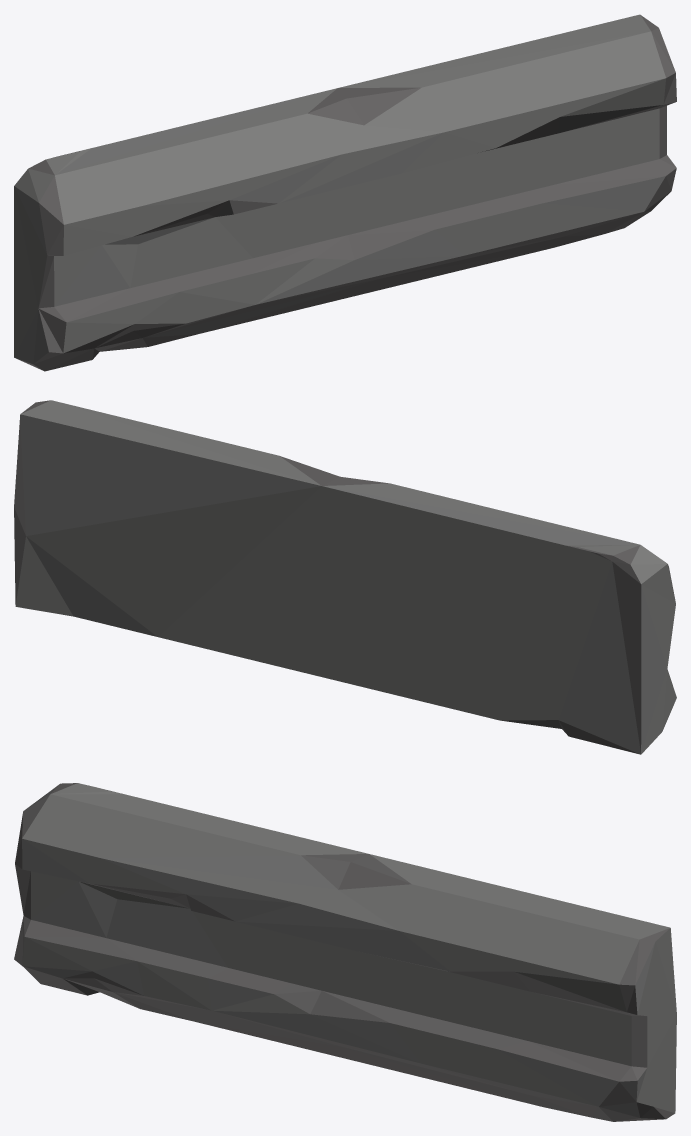
File: SM_Env_Wall_Trim_Top_01.FBX
The picture shows the model from 3 angles, top to bottom: view 1: azimuth 30°, elevation 25°; view 2: azimuth 150°, elevation 25°; view 3: azimuth 330°, elevation 25°; orthographic projection.
Parts seen in each view (by area): view 1: SM_Env_Wall_Trim_Top_01; view 2: SM_Env_Wall_Trim_Top_01; view 3: SM_Env_Wall_Trim_Top_01.
Part boxes in pixels (x1,y1,x2,y2): SM_Env_Wall_Trim_Top_01: (14,14,676,371); SM_Env_Wall_Trim_Top_01: (14,400,676,754); SM_Env_Wall_Trim_Top_01: (14,783,676,1121).
Size of what is drawn, in the model's own units: 262 by 31.56 by 77.23.
